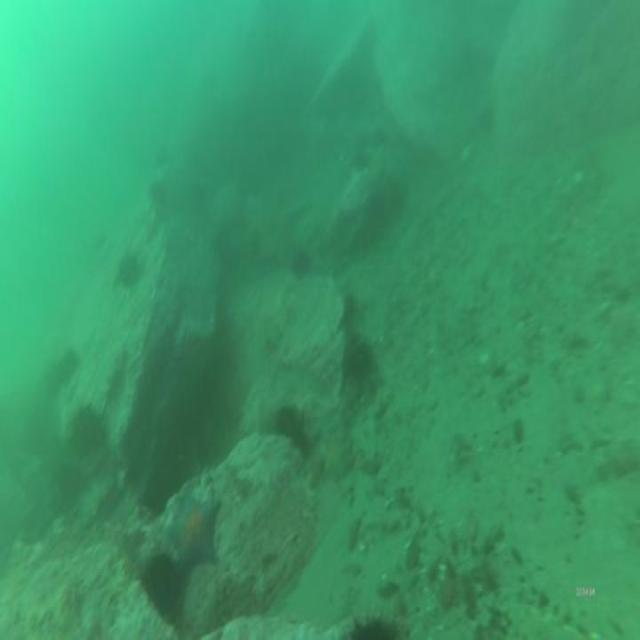echinus: (146, 553, 178, 612), (70, 409, 106, 454), (346, 338, 377, 386), (276, 406, 306, 447), (288, 245, 311, 280), (119, 257, 139, 283)
starfish: (174, 496, 217, 563)
